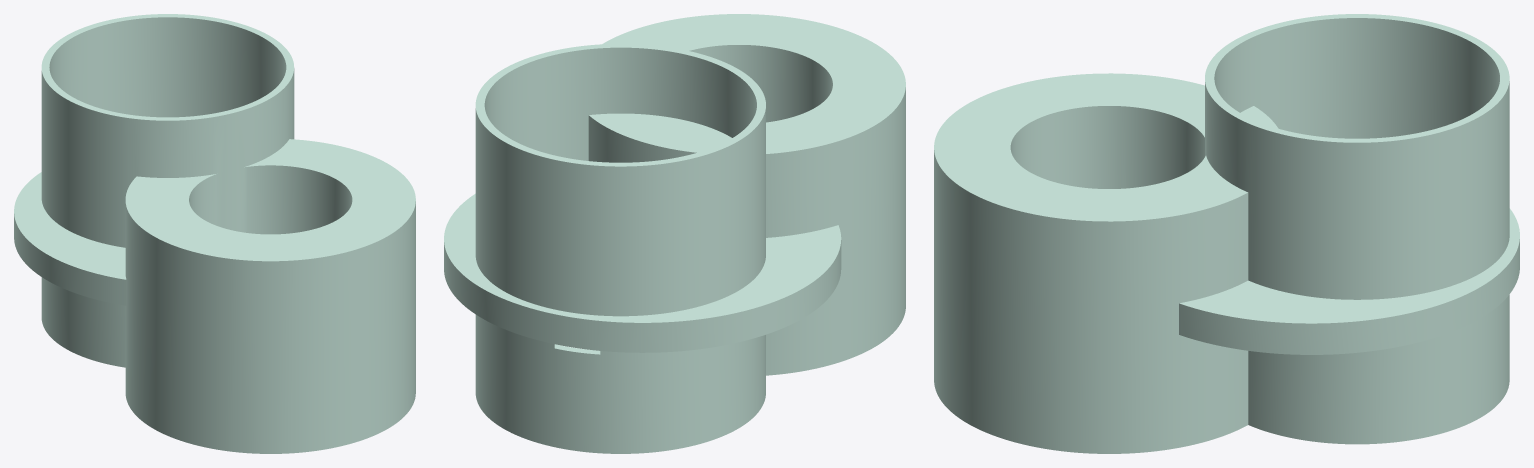
The picture shows the model from 3 angles, left to right: view 1: azimuth 30°, elevation 25°; view 2: azimuth 150°, elevation 25°; view 3: azimuth 270°, elevation 25°; orthographic projection. The views are drawn at different scales.
Visible parts, largest first — view 1: Renderer Node; view 2: Renderer Node; view 3: Renderer Node.
Part boxes in pixels (x1,y1,x2,y2): Renderer Node: (14,14,415,453); Renderer Node: (444,14,905,453); Renderer Node: (934,14,1519,453).
Bounding box in the file's own units: 0.9395 × 0.75 × 1.32.
